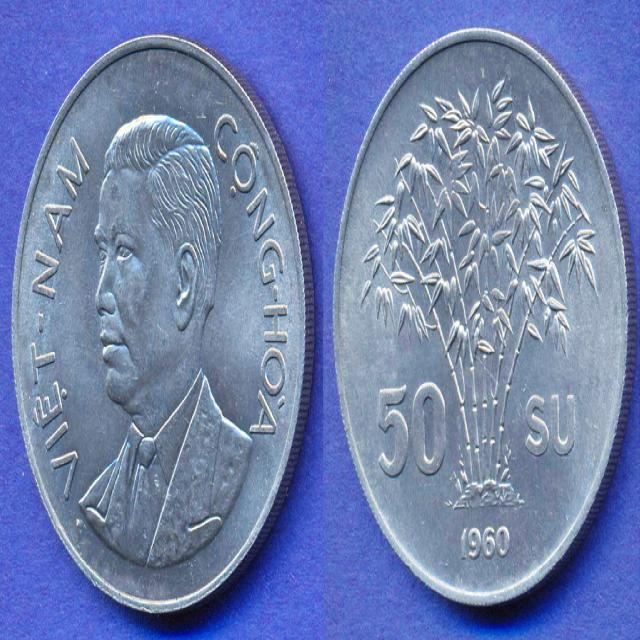Coin: (12, 30, 317, 609), (335, 33, 636, 607)
